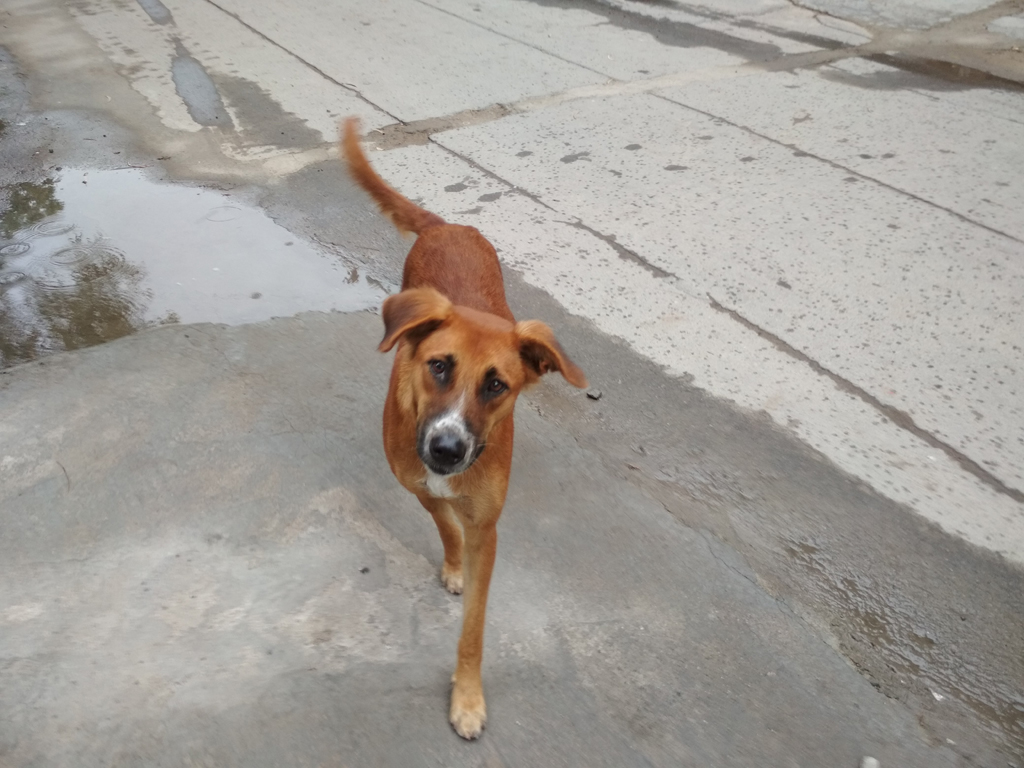dog: (341, 115, 588, 741)
